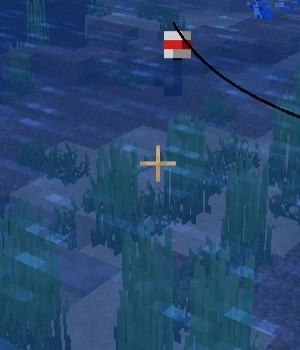up: (154, 21, 197, 96)
